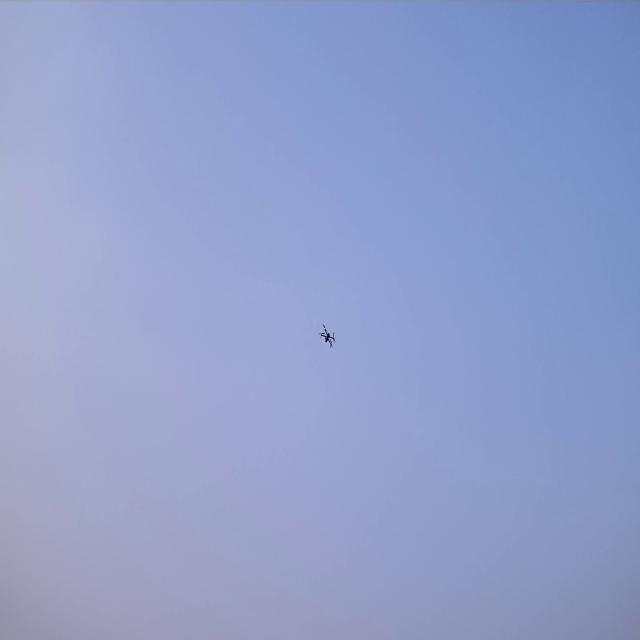UAV: (318, 320, 337, 350)
